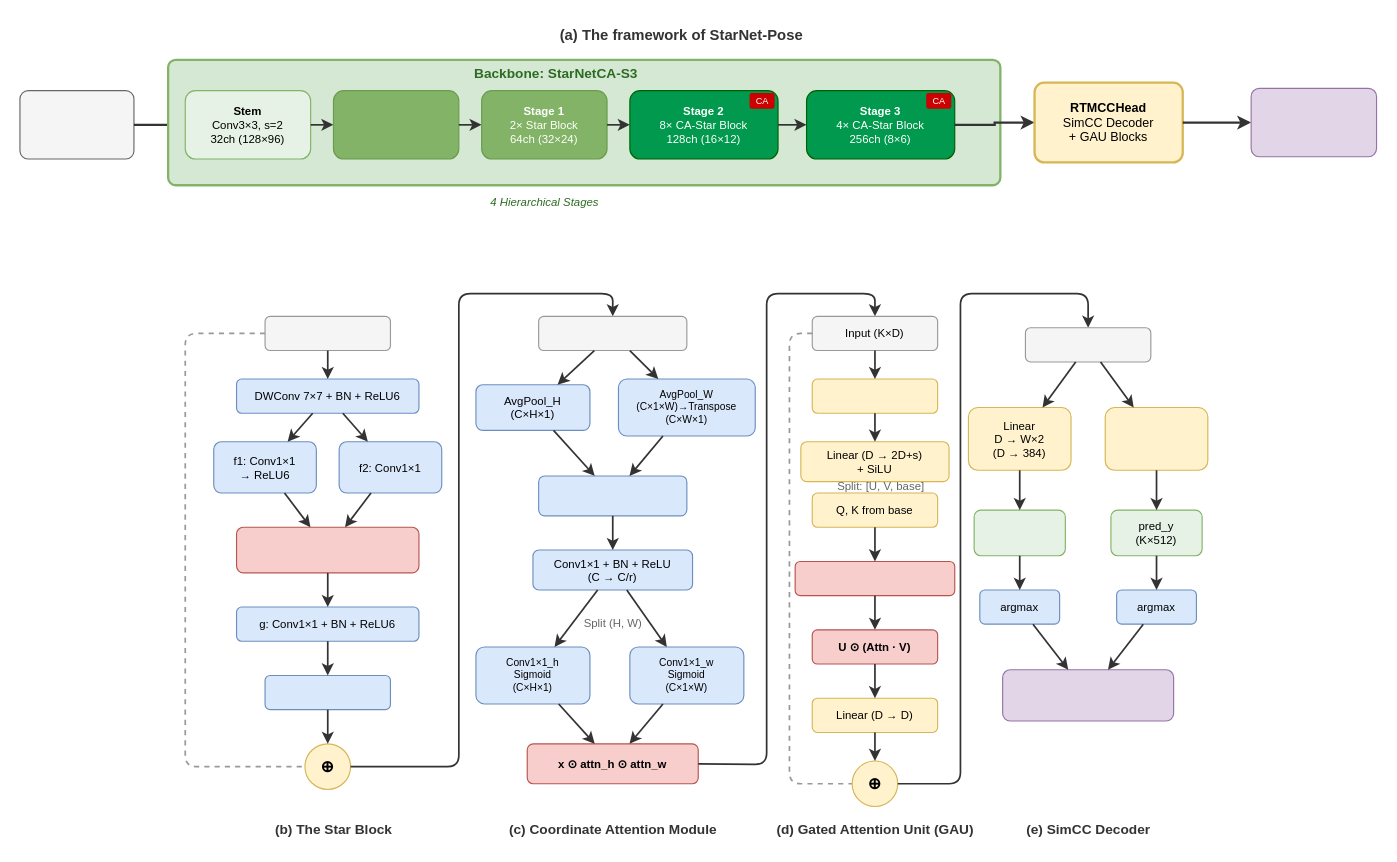
This 1397x862 diagram has some shape labels left out. The centre of each missing label's shape, as x and y in pixels:
(x, y) coordinates 17 Keypoints: point 1087,695
Attn = ReLU²(QKᵀ/√s): point 874,578
Concat (C×(H+W)×1): point 612,495
DWConv 7×7: point 327,692
Feature (K×D): point 1087,344
Input Image 256×192×3: point 76,124
Input x: point 327,333
Input x (C×H×W): point 612,333
Linear D → H×2 (D → 512): point 1156,438
Output 17 Keypoints (x, y) coords: point 1313,122
pred_x (K×384): point 1019,532
ScaleNorm: point 874,395
Stage 0 2× Star Block 32ch (64×48): point 395,124
★ ReLU6(f1) ⊙ f2 Element-wise Multiply: point 327,549
